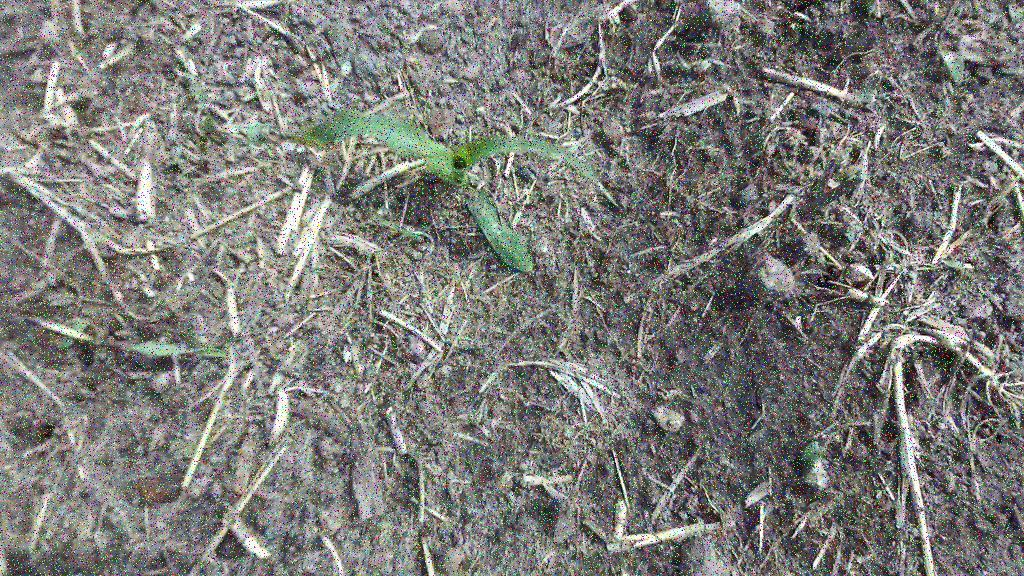BroWeed: (120, 338, 230, 364), (790, 426, 841, 472), (54, 306, 106, 351), (368, 213, 427, 249), (935, 37, 971, 89), (177, 68, 213, 109), (238, 110, 275, 148), (221, 507, 254, 545), (234, 131, 272, 161), (413, 225, 440, 267), (692, 49, 724, 77), (941, 250, 970, 278), (853, 84, 889, 106), (537, 112, 566, 138), (392, 221, 416, 248), (671, 52, 698, 75), (169, 144, 190, 172), (181, 431, 200, 460), (835, 163, 864, 182), (197, 110, 216, 136), (842, 224, 862, 244), (805, 102, 831, 117), (997, 64, 1017, 76), (865, 0, 877, 17), (898, 70, 908, 88)
Maize: (290, 26, 631, 298)
